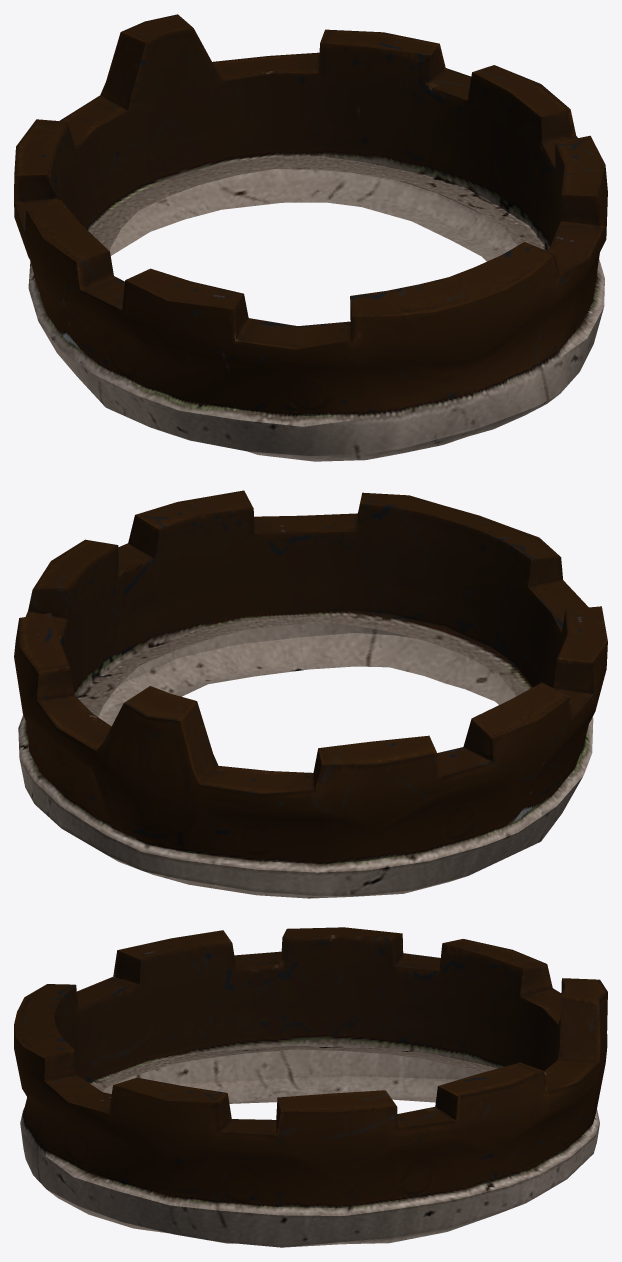
Rendered from Mking_Crown.FBX.
The picture shows the model from 3 angles, top to bottom: view 1: azimuth 30°, elevation 25°; view 2: azimuth 150°, elevation 25°; view 3: azimuth 270°, elevation 25°; orthographic projection. The views are drawn at different scales.
Parts seen in each view (by area): view 1: crown; view 2: crown; view 3: crown.
Part boxes in pixels (left/top/right/bottom): crown: left=14, top=14, right=607, bottom=461; crown: left=14, top=490, right=607, bottom=898; crown: left=14, top=927, right=607, bottom=1247.
Size of the model in its own units: 0.1929 by 0.081 by 0.2224.
